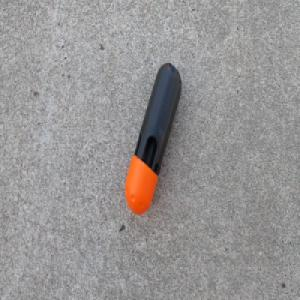PlasticPart: (124, 60, 182, 215)
